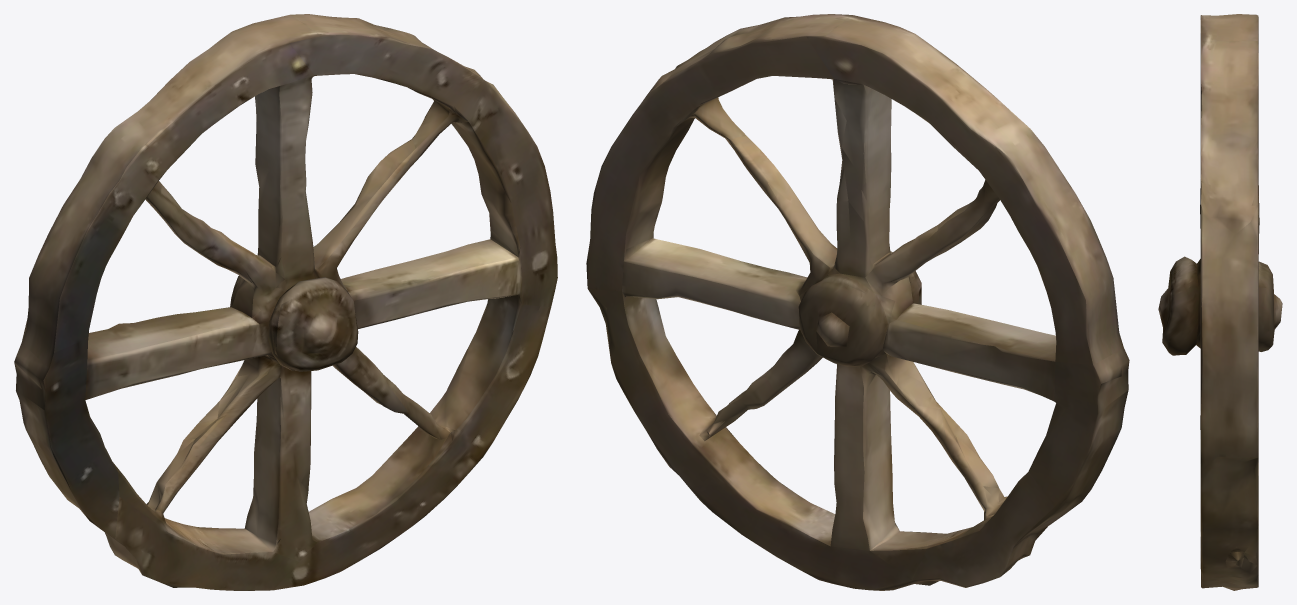
The model's file is m2RuinFloodGate.glb.
3 views of the same model, side by side, from view 1: azimuth 30°, elevation 25°; view 2: azimuth 150°, elevation 25°; view 3: azimuth 270°, elevation 25° (orthographic). The views are drawn at different scales.
Visible parts, largest first — view 1: model; view 2: model; view 3: model.
Part boxes in pixels (x1,y1,x2,y2): model: (14,14,557,590); model: (586,14,1129,590); model: (1158,14,1282,590).
Bounding box in the file's own units: 1.87 × 1.9 × 0.4002.
Materials: 1 (1 with a texture image).
